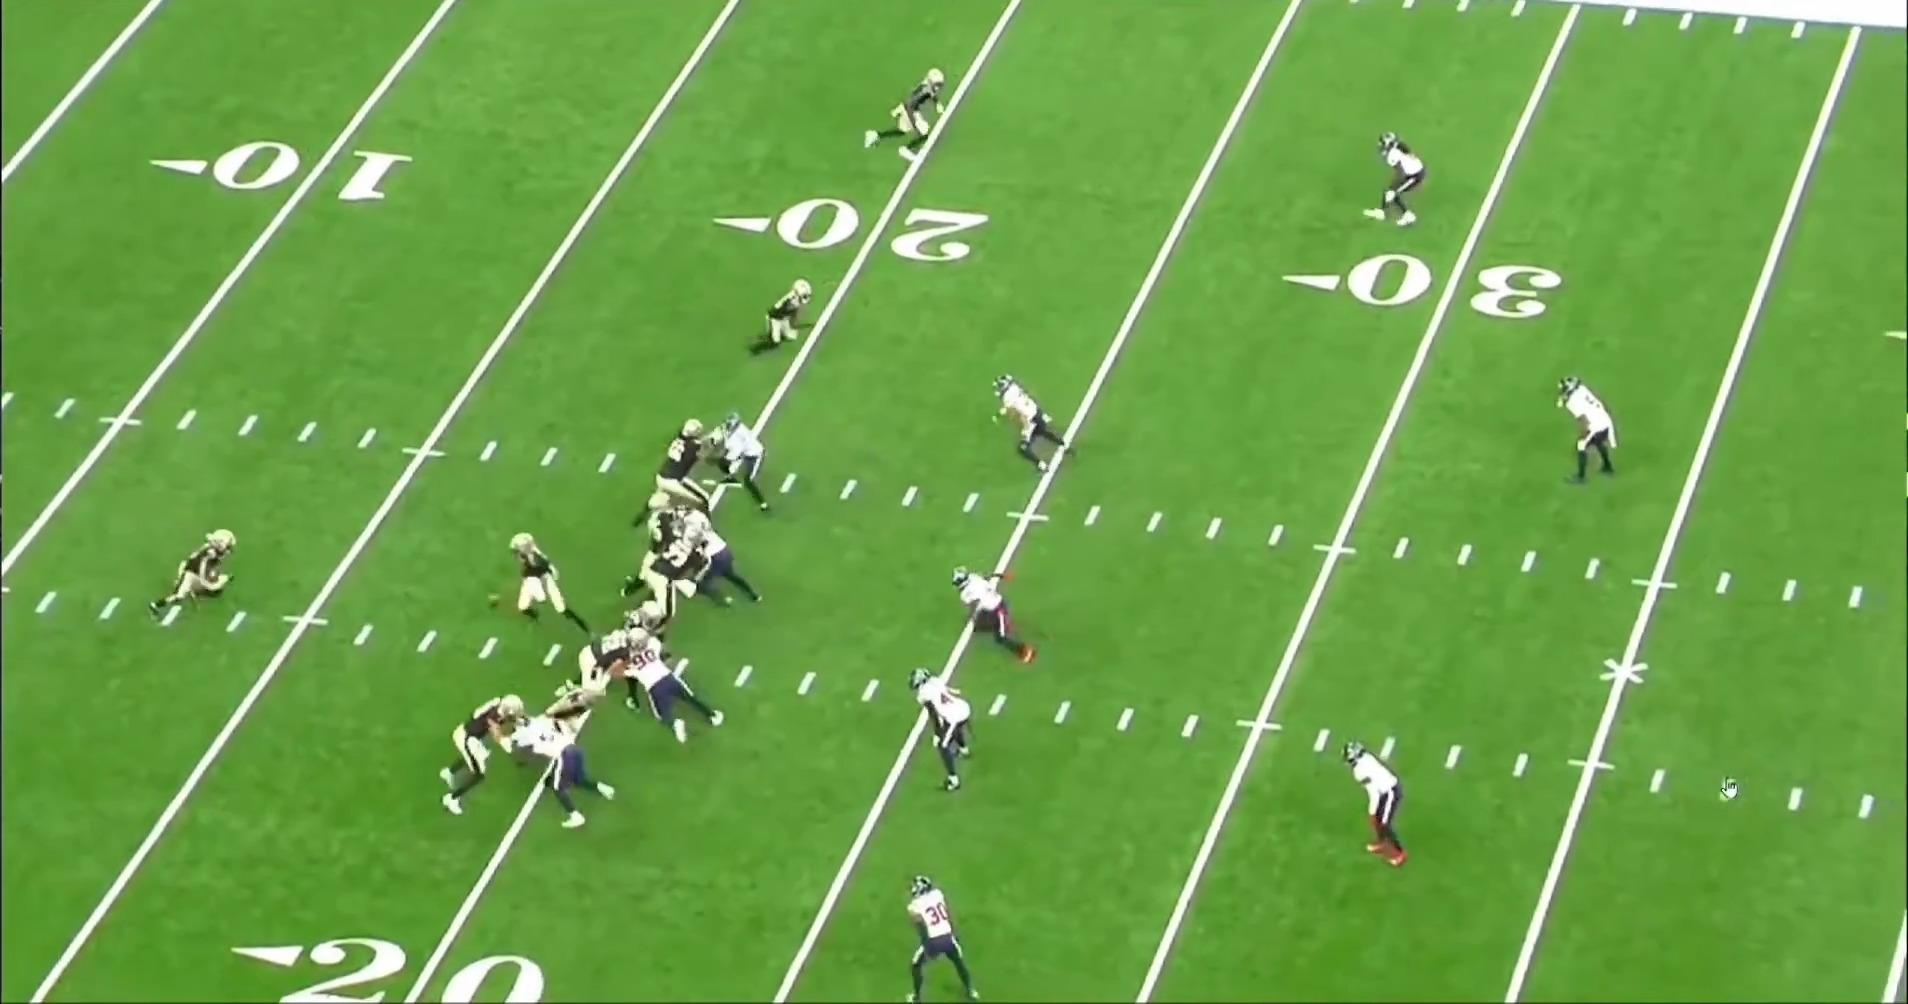player: (517, 707, 621, 836), (433, 691, 533, 820), (632, 630, 738, 745), (908, 873, 992, 1004), (644, 415, 734, 529), (941, 566, 1032, 673), (1341, 736, 1414, 869), (904, 660, 975, 794), (548, 620, 646, 717), (857, 62, 946, 168), (148, 523, 238, 626), (984, 376, 1069, 482), (496, 529, 582, 632), (620, 525, 707, 620), (679, 515, 765, 611), (1547, 376, 1616, 494), (702, 415, 775, 518), (743, 274, 817, 363), (1368, 125, 1431, 228), (605, 606, 651, 715), (635, 486, 694, 560), (537, 679, 614, 735)
